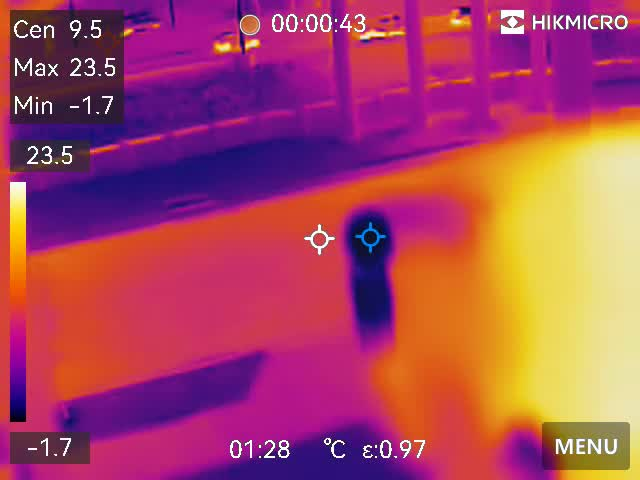vehicle: (209, 30, 273, 55)
